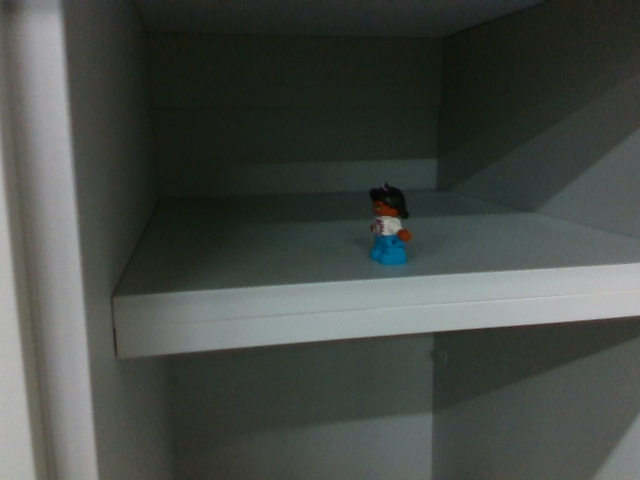people: (362, 180, 415, 268)
